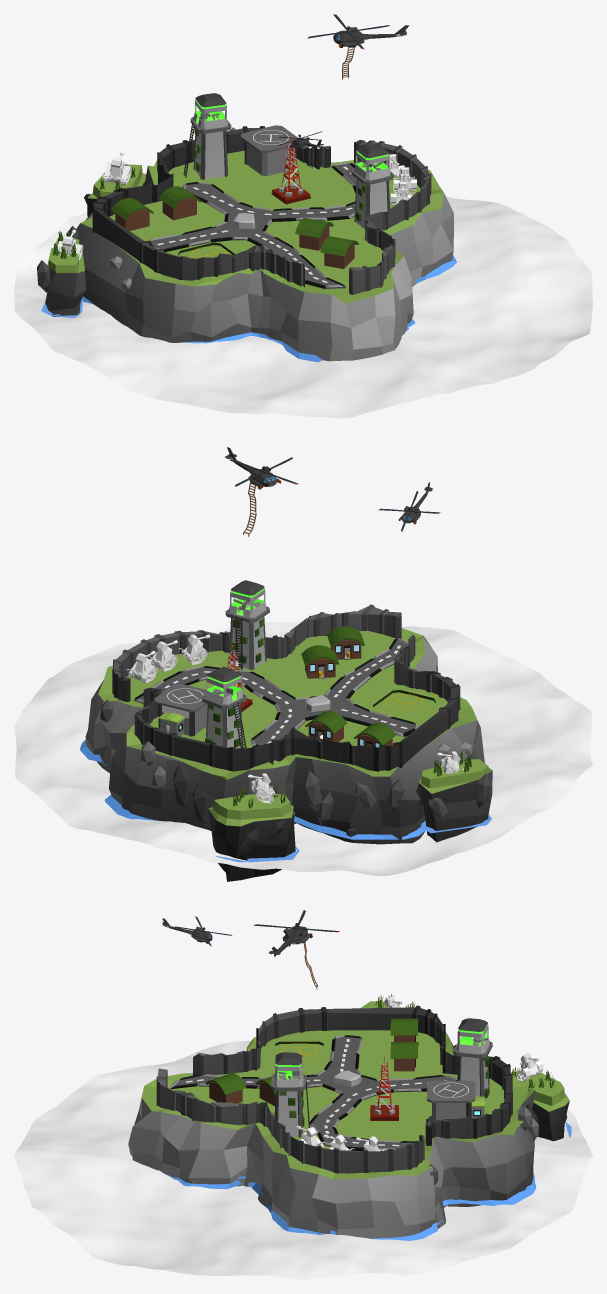
File: military-island_0_.glb
The picture shows the model from 3 angles, top to bottom: view 1: azimuth 30°, elevation 25°; view 2: azimuth 150°, elevation 25°; view 3: azimuth 270°, elevation 25°; orthographic projection. The views are drawn at different scales.
Parts seen in each view (by area): view 1: World9-Miitary, Plane; view 2: World9-Miitary, Plane; view 3: World9-Miitary, Plane.
Part boxes in pixels (<box>): World9-Miitary: <box>37,14,456,362</box>; Plane: <box>14,196,592,418</box>; World9-Miitary: <box>79,447,492,881</box>; Plane: <box>14,621,592,876</box>; World9-Miitary: <box>128,910,571,1240</box>; Plane: <box>14,1040,592,1279</box>.
Bounding box in the file's own units: 23.86 × 12.94 × 24.
Materials: 4 (2 with a texture image).
